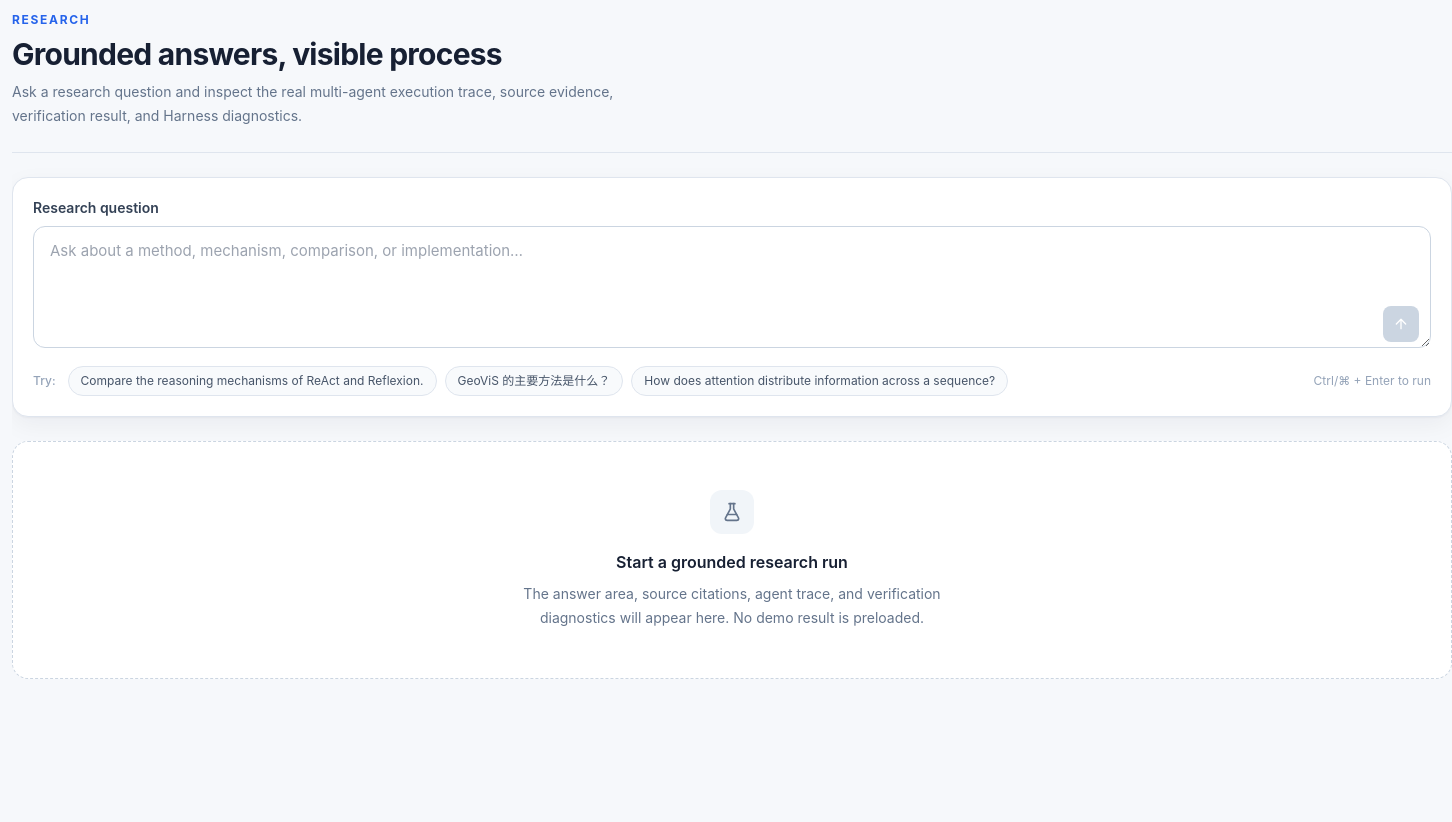
Scenario: ResearchPage cancellation › aborts the current stream without recording a completed run
The width and height of the screenshot is (1452, 822).
Replace the text in the text box labelled "Research question" with "How does it work?". click: (732, 287)
box: [33,226,1431,348]
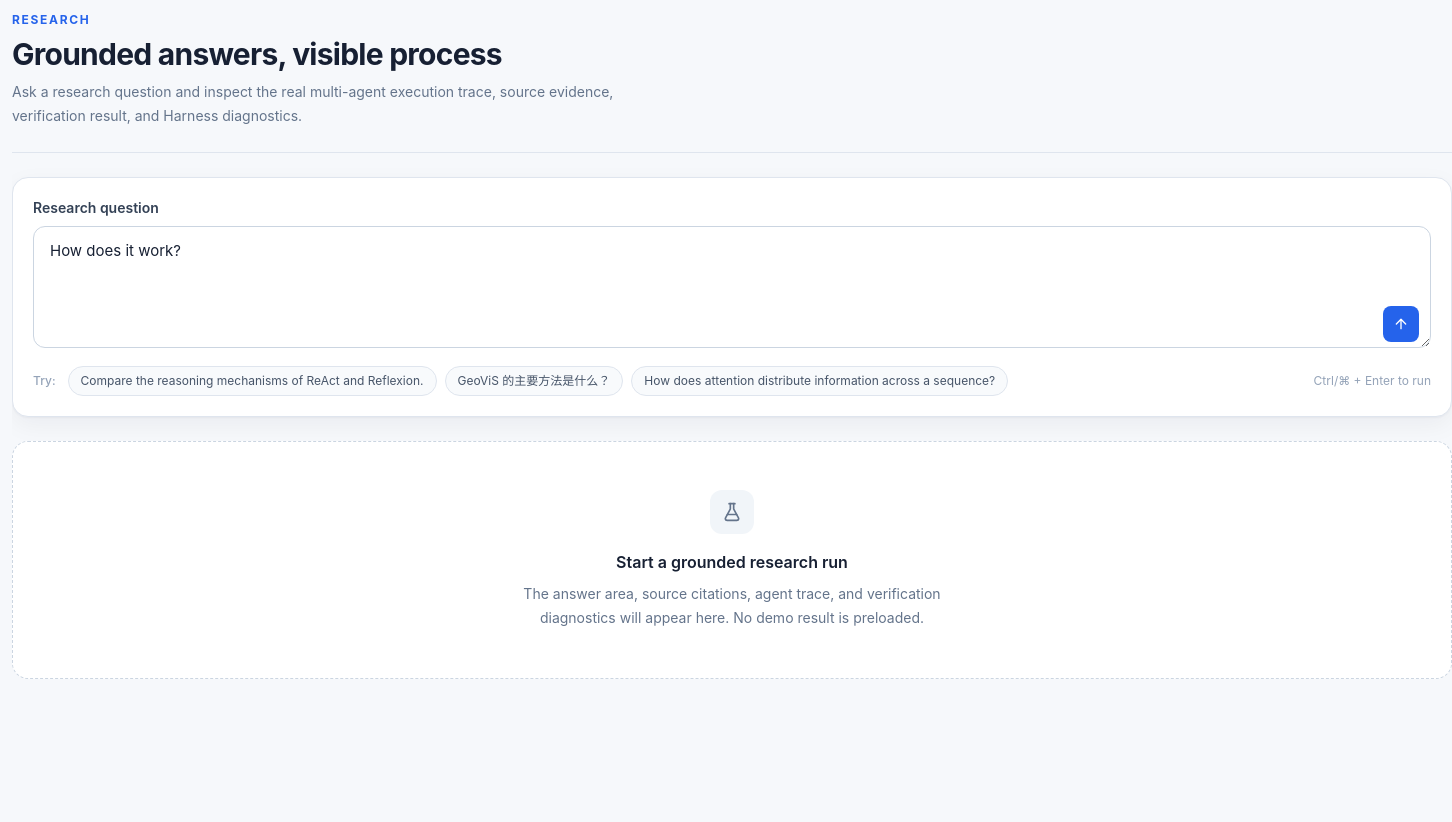
Click the button named "Start research". click: (1401, 324)
box: [1383,306,1419,342]
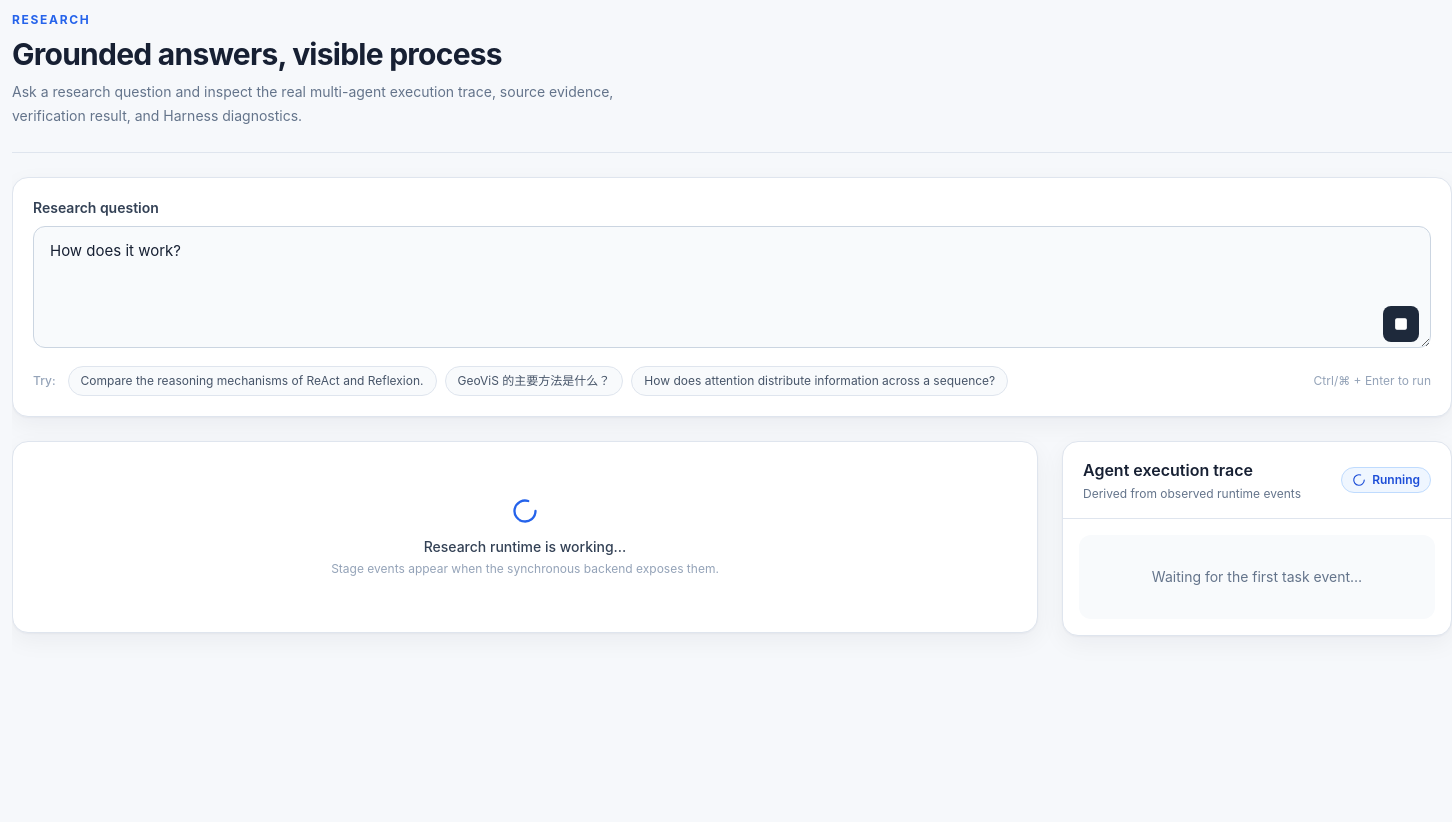
Click the button named "Cancel research". click: (1401, 324)
box: [1383,306,1419,342]
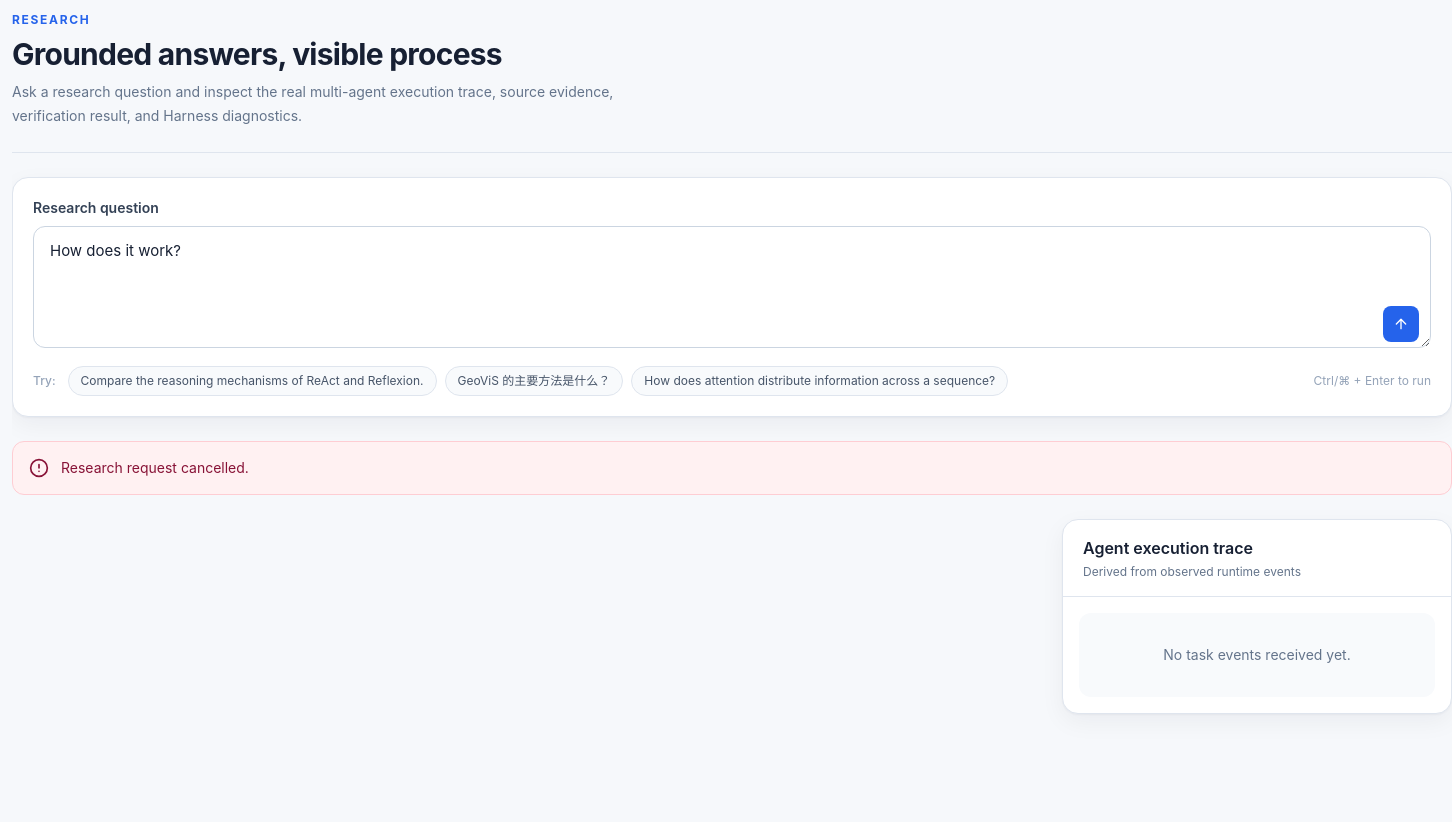
Result: the button named "Start research" is enabled at [1383,306,1419,342]
Result: the message shows "cancelled" at [61,459,249,476]
